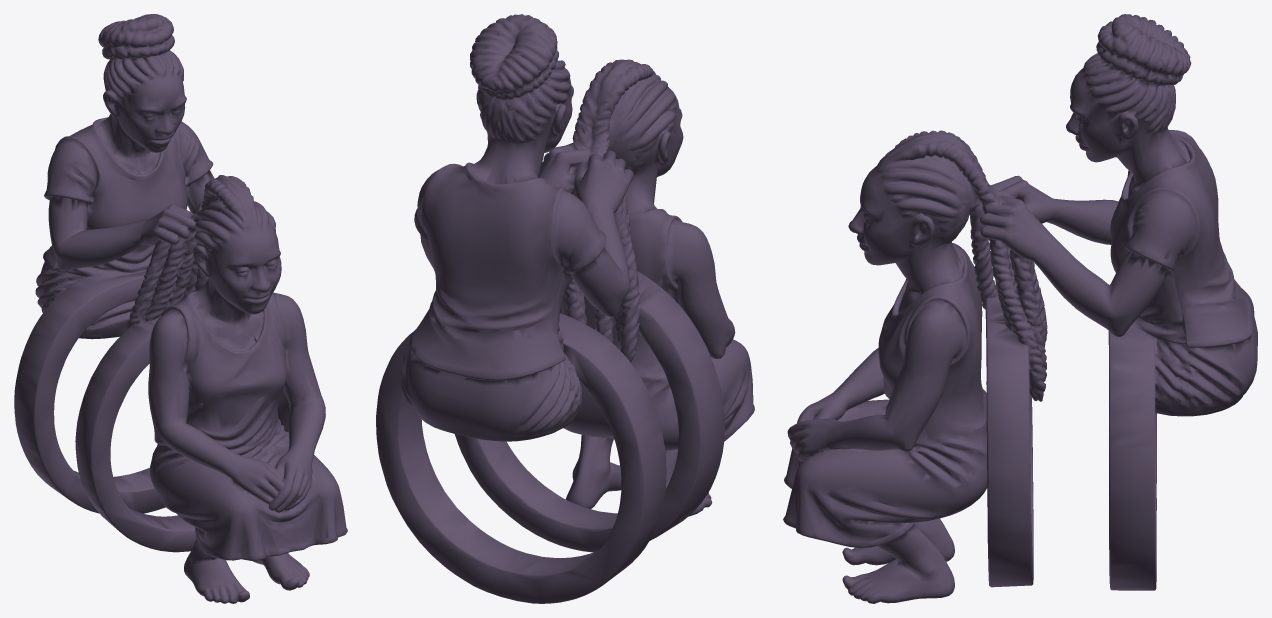
File: the-braider-6in.glb
The picture shows the model from 3 angles, left to right: view 1: azimuth 30°, elevation 25°; view 2: azimuth 150°, elevation 25°; view 3: azimuth 270°, elevation 25°; orthographic projection. The views are drawn at different scales.
Parts seen in each view (by area): view 1: world; view 2: world; view 3: world.
Part boxes in pixels (x1,y1,x2,y2): world: (14, 14, 347, 603); world: (376, 14, 754, 603); world: (783, 14, 1257, 603).
Bounding box in the file's own units: 0.0755 × 0.1525 × 0.1179.
